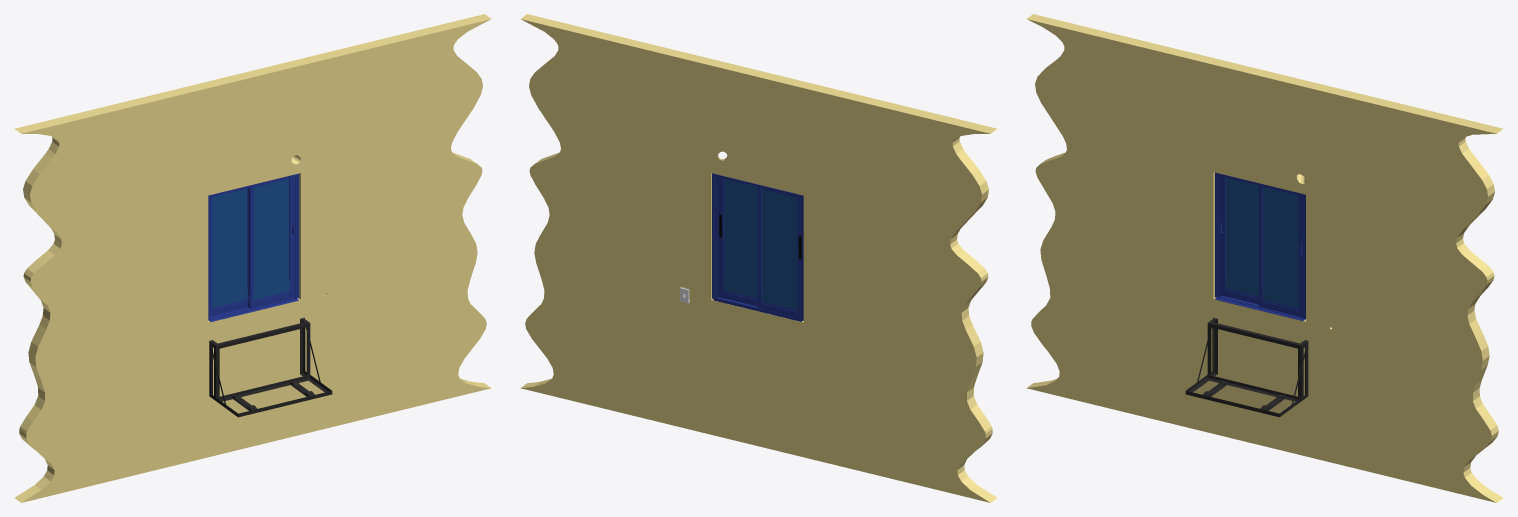
The model's file is wall Window_V03.fbx.
3 views of the same model, side by side, from view 1: azimuth 30°, elevation 25°; view 2: azimuth 150°, elevation 25°; view 3: azimuth 330°, elevation 25° (orthographic).
Parts seen in each view (by area): view 1: Wall-Window, Wall and window, 7amel, Window Fram; view 2: Wall-Window, Wall and window, Window Fram; view 3: Wall-Window, Wall and window, 7amel, Window Fram.
Boxes of the visible parts, bbox=[...] form: Wall-Window: bbox=[14, 14, 491, 502]; Wall and window: bbox=[248, 177, 295, 308]; 7amel: bbox=[209, 317, 332, 417]; Window Fram: bbox=[208, 173, 299, 322]; Wall-Window: bbox=[520, 14, 997, 502]; Wall and window: bbox=[718, 177, 757, 306]; Window Fram: bbox=[712, 173, 803, 321]; Wall-Window: bbox=[1026, 14, 1503, 502]; Wall and window: bbox=[1259, 186, 1304, 317]; 7amel: bbox=[1185, 317, 1308, 417]; Window Fram: bbox=[1215, 172, 1305, 321].
Bounding box in the file's own units: 400000 × 300000 × 56130.
